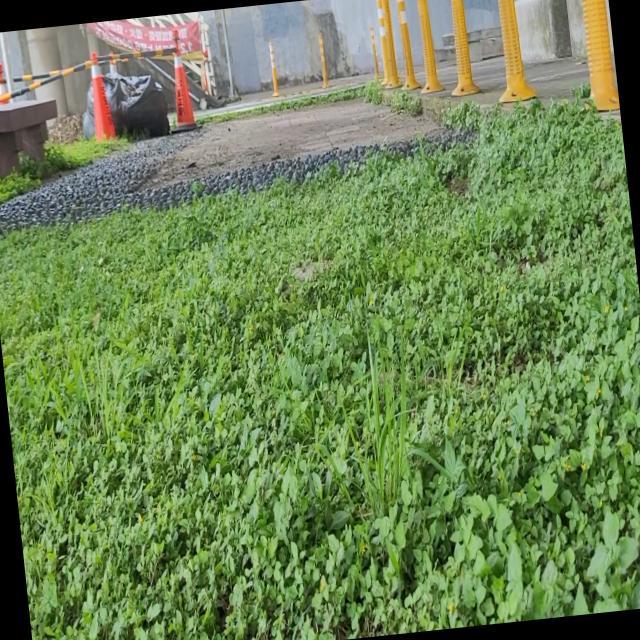grass: (0, 101, 640, 640)
